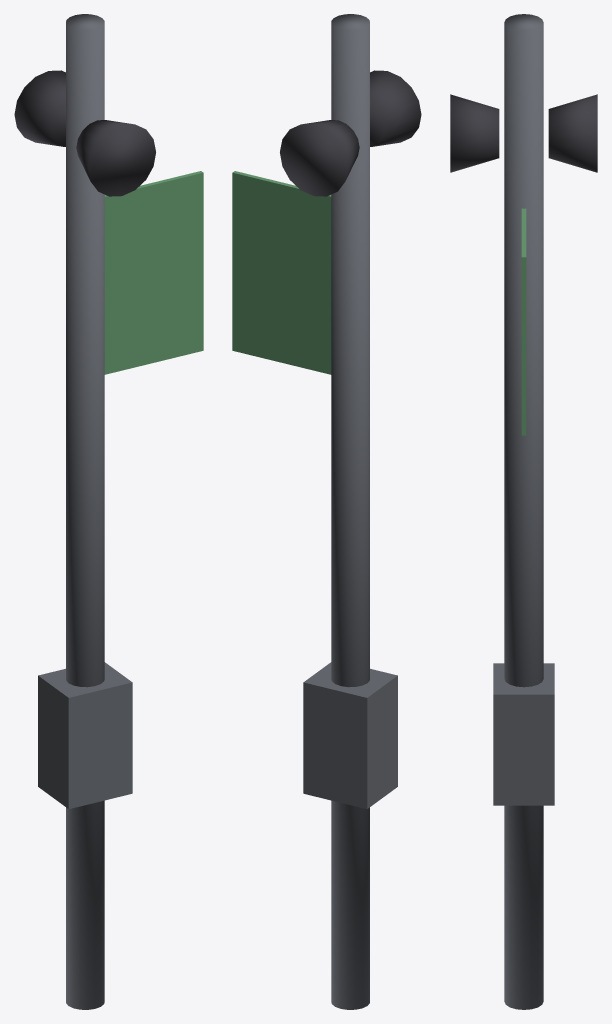
Rendered from prop_speaker_pole.glb.
3 renders of one model, left to right at view 1: azimuth 30°, elevation 25°; view 2: azimuth 150°, elevation 25°; view 3: azimuth 270°, elevation 25°, orthographic.
Parts seen in each view (by area): view 1: speaker_pole; view 2: speaker_pole; view 3: speaker_pole.
Boxes of the visible parts, bbox=[...] form: speaker_pole: bbox=[14, 14, 203, 1009]; speaker_pole: bbox=[232, 14, 421, 1009]; speaker_pole: bbox=[450, 14, 597, 1009].
Bounding box in the file's own units: 0.71 × 4.4 × 0.6.
